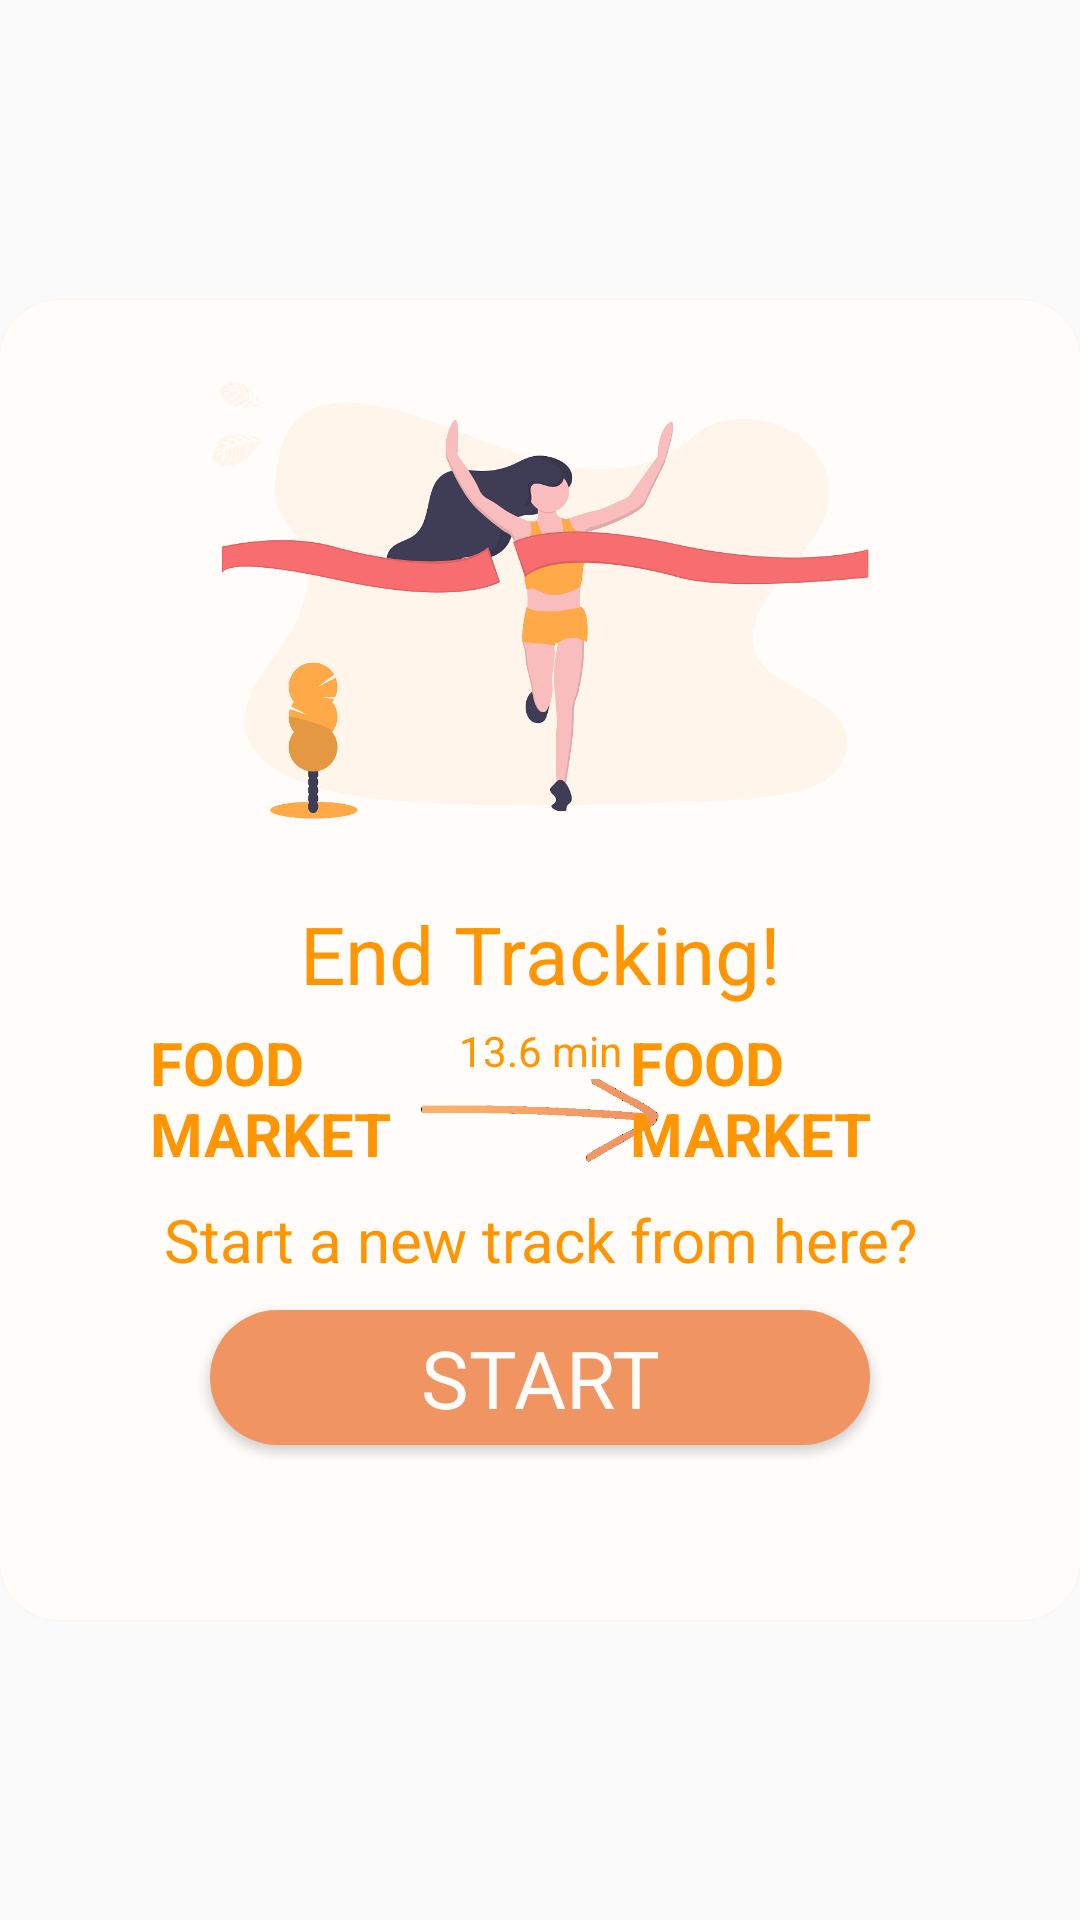

Locate icon controls on the screen. Image size 1080px×1920px, boxes as bbox(x1, y1, x2, y2).
arrow: bbox(421, 1079, 679, 1162)
